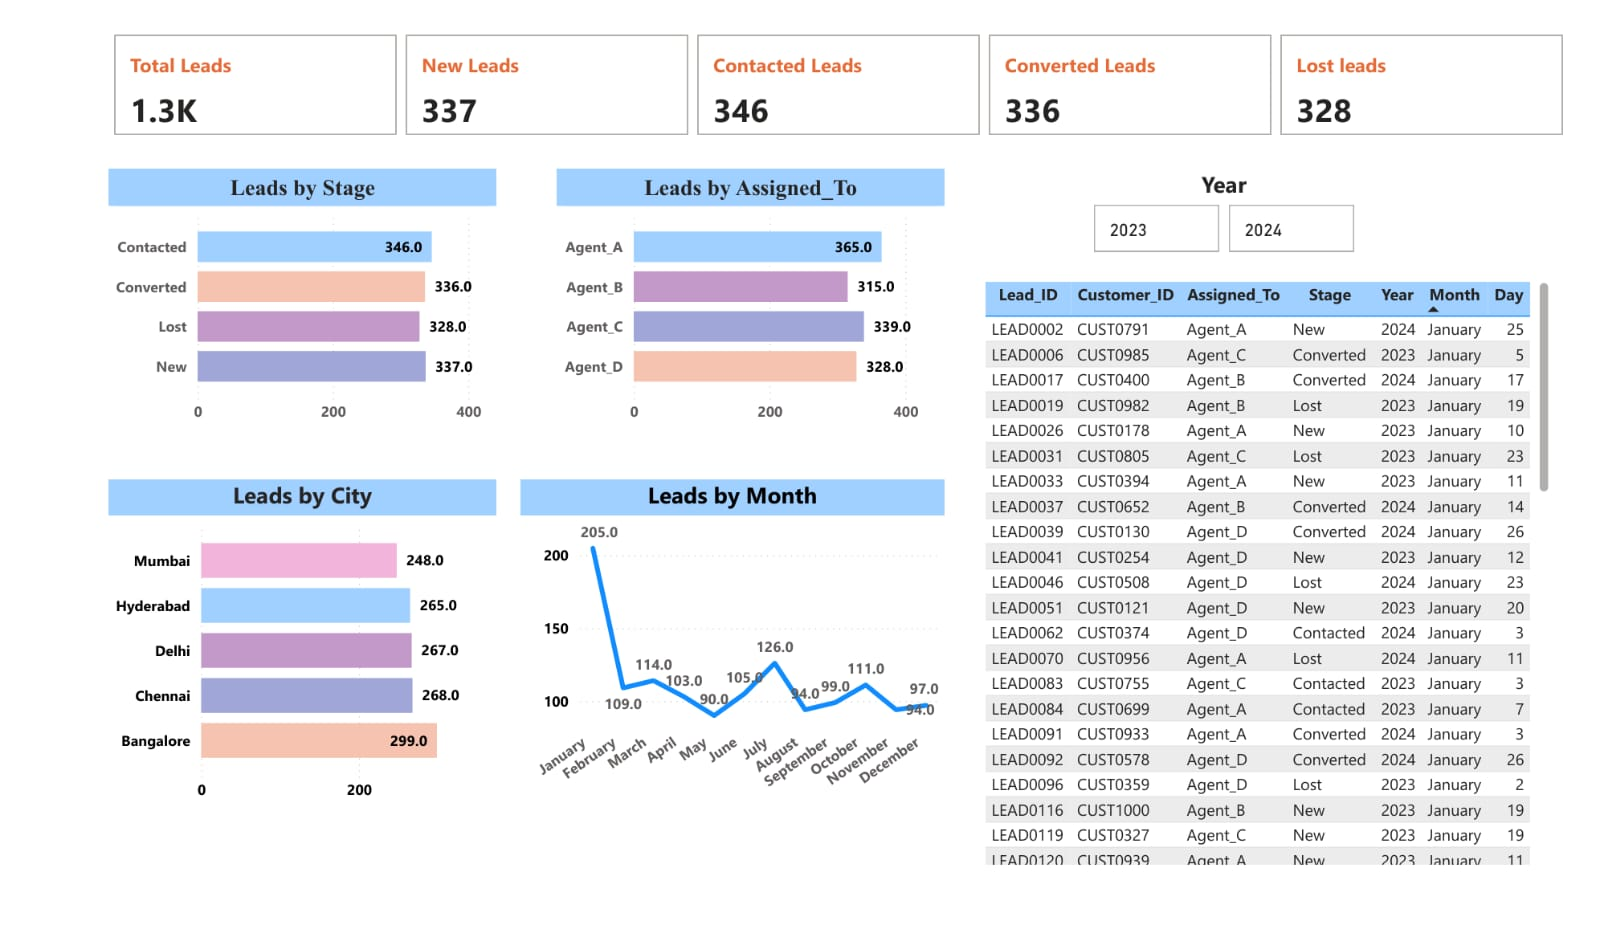

The dashboard page shown, as its layout file describes it:
{"tool":"powerbi","page":{"name":"CRM Analytics","canvas":[1280,720],"ordinal":2},"visuals":[{"type":"cardVisual","fields":{"Data":["Measure.Total Leads","Measure.New Leads","Measure.Contacted Leads","Measure.Converted Leads","Measure.Lost leads"]},"box":[65.9,0,1213.8,92.5],"z":0},{"type":"barChart","title":" Leads by Stage","fields":{"Category":["CRM_Data.Stage"],"Y":["Measure.Total Leads"]},"box":[65.9,115.7,322.1,220.7],"z":1000},{"type":"barChart","title":"Leads by Assigned_To","fields":{"Category":["CRM_Data.Assigned_To"],"Y":["Measure.Total Leads"]},"box":[437.8,115.7,322.1,220.7],"z":2000},{"type":"tableEx","fields":{"Values":["CRM_Data.Lead_ID","CRM_Data.Customer_ID","CRM_Data.Assigned_To","CRM_Data.Stage","CRM_Data.Follow_Up_Date.Variation.Date Hierarchy.Year","CRM_Data.Follow_Up_Date.Variation.Date Hierarchy.Month","CRM_Data.Follow_Up_Date.Variation.Date Hierarchy.Day"]},"box":[788.4,204.7,478.8,494.8],"z":3000},{"type":"barChart","title":" Leads by City","fields":{"Category":["Customers.City"],"Y":["Measure.Total Leads"]},"box":[65.9,373.8,322.1,275.9],"z":4000},{"type":"lineChart","title":"Leads by Month","fields":{"Category":["CRM_Data.Follow_Up_Date.Variation.Date Hierarchy.Month"],"Y":["Measure.Total Leads"]},"box":[407.6,373.8,352.4,275.9],"z":5000},{"type":"advancedSlicerVisual","title":"Year","fields":{"Values":["CRM_Data.Follow_Up_Date.Variation.Date Hierarchy.Year"]},"box":[879.2,115.7,226,74.8],"z":6000}]}

Visuals, with their boxes in screenshot pixels (x1, y1, x2, y2), scaled from the page's 1280x720 canvas onto the 1600x925 screenshot:
cardVisual - Measure.Total Leads x Measure.New Leads: 82 0 1599 119
" Leads by Stage" barChart: 82 149 485 432
"Leads by Assigned_To" barChart: 547 149 950 432
tableEx - CRM_Data.Lead_ID x CRM_Data.Customer_ID: 986 263 1584 899
" Leads by City" barChart: 82 480 485 835
"Leads by Month" lineChart: 510 480 950 835
"Year" advancedSlicerVisual: 1099 149 1382 245
